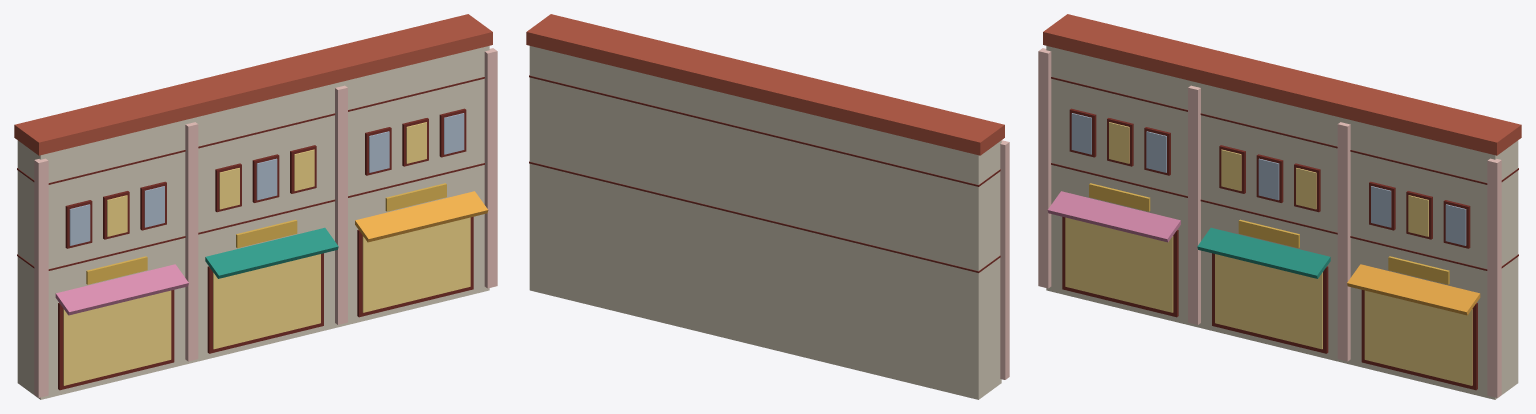
The model's file is bld_gum_wall.glb.
The picture shows the model from 3 angles, left to right: view 1: azimuth 30°, elevation 25°; view 2: azimuth 150°, elevation 25°; view 3: azimuth 330°, elevation 25°; orthographic projection.
Parts seen in each view (by area): view 1: bld_gum_wall; view 2: bld_gum_wall; view 3: bld_gum_wall.
Part boxes in pixels (x1,y1,x2,y2): bld_gum_wall: (14,14,497,399); bld_gum_wall: (526,14,1009,399); bld_gum_wall: (1038,14,1521,399).
Size of the model in its own units: 18.4 by 9.9 by 2.6.
Materials: 1 (1 with a texture image).
